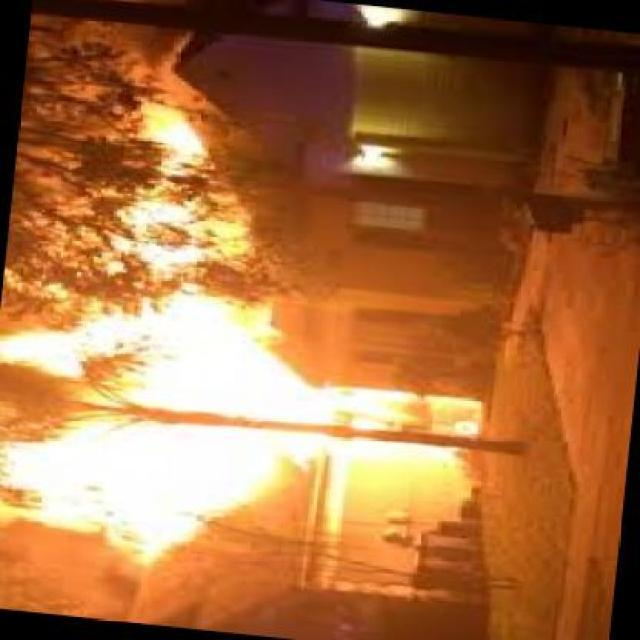Fire: (9, 286, 490, 568)
